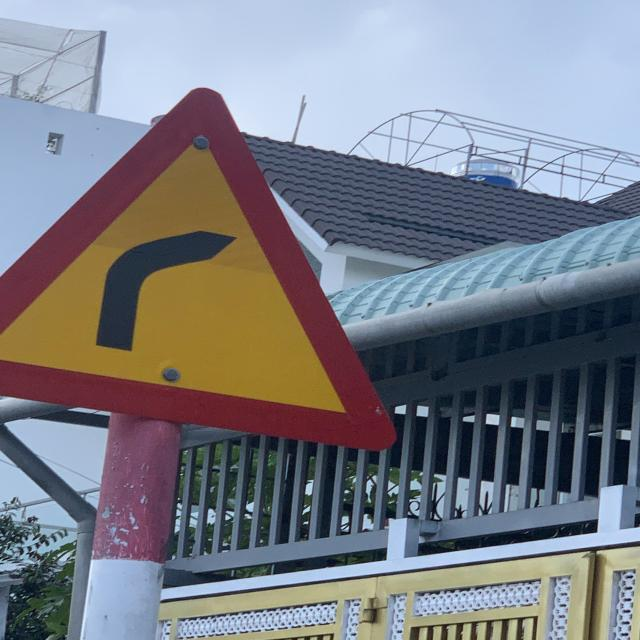Duong_Nguoi_Di_Bo_Cat_Ngang: (0, 87, 391, 448)
